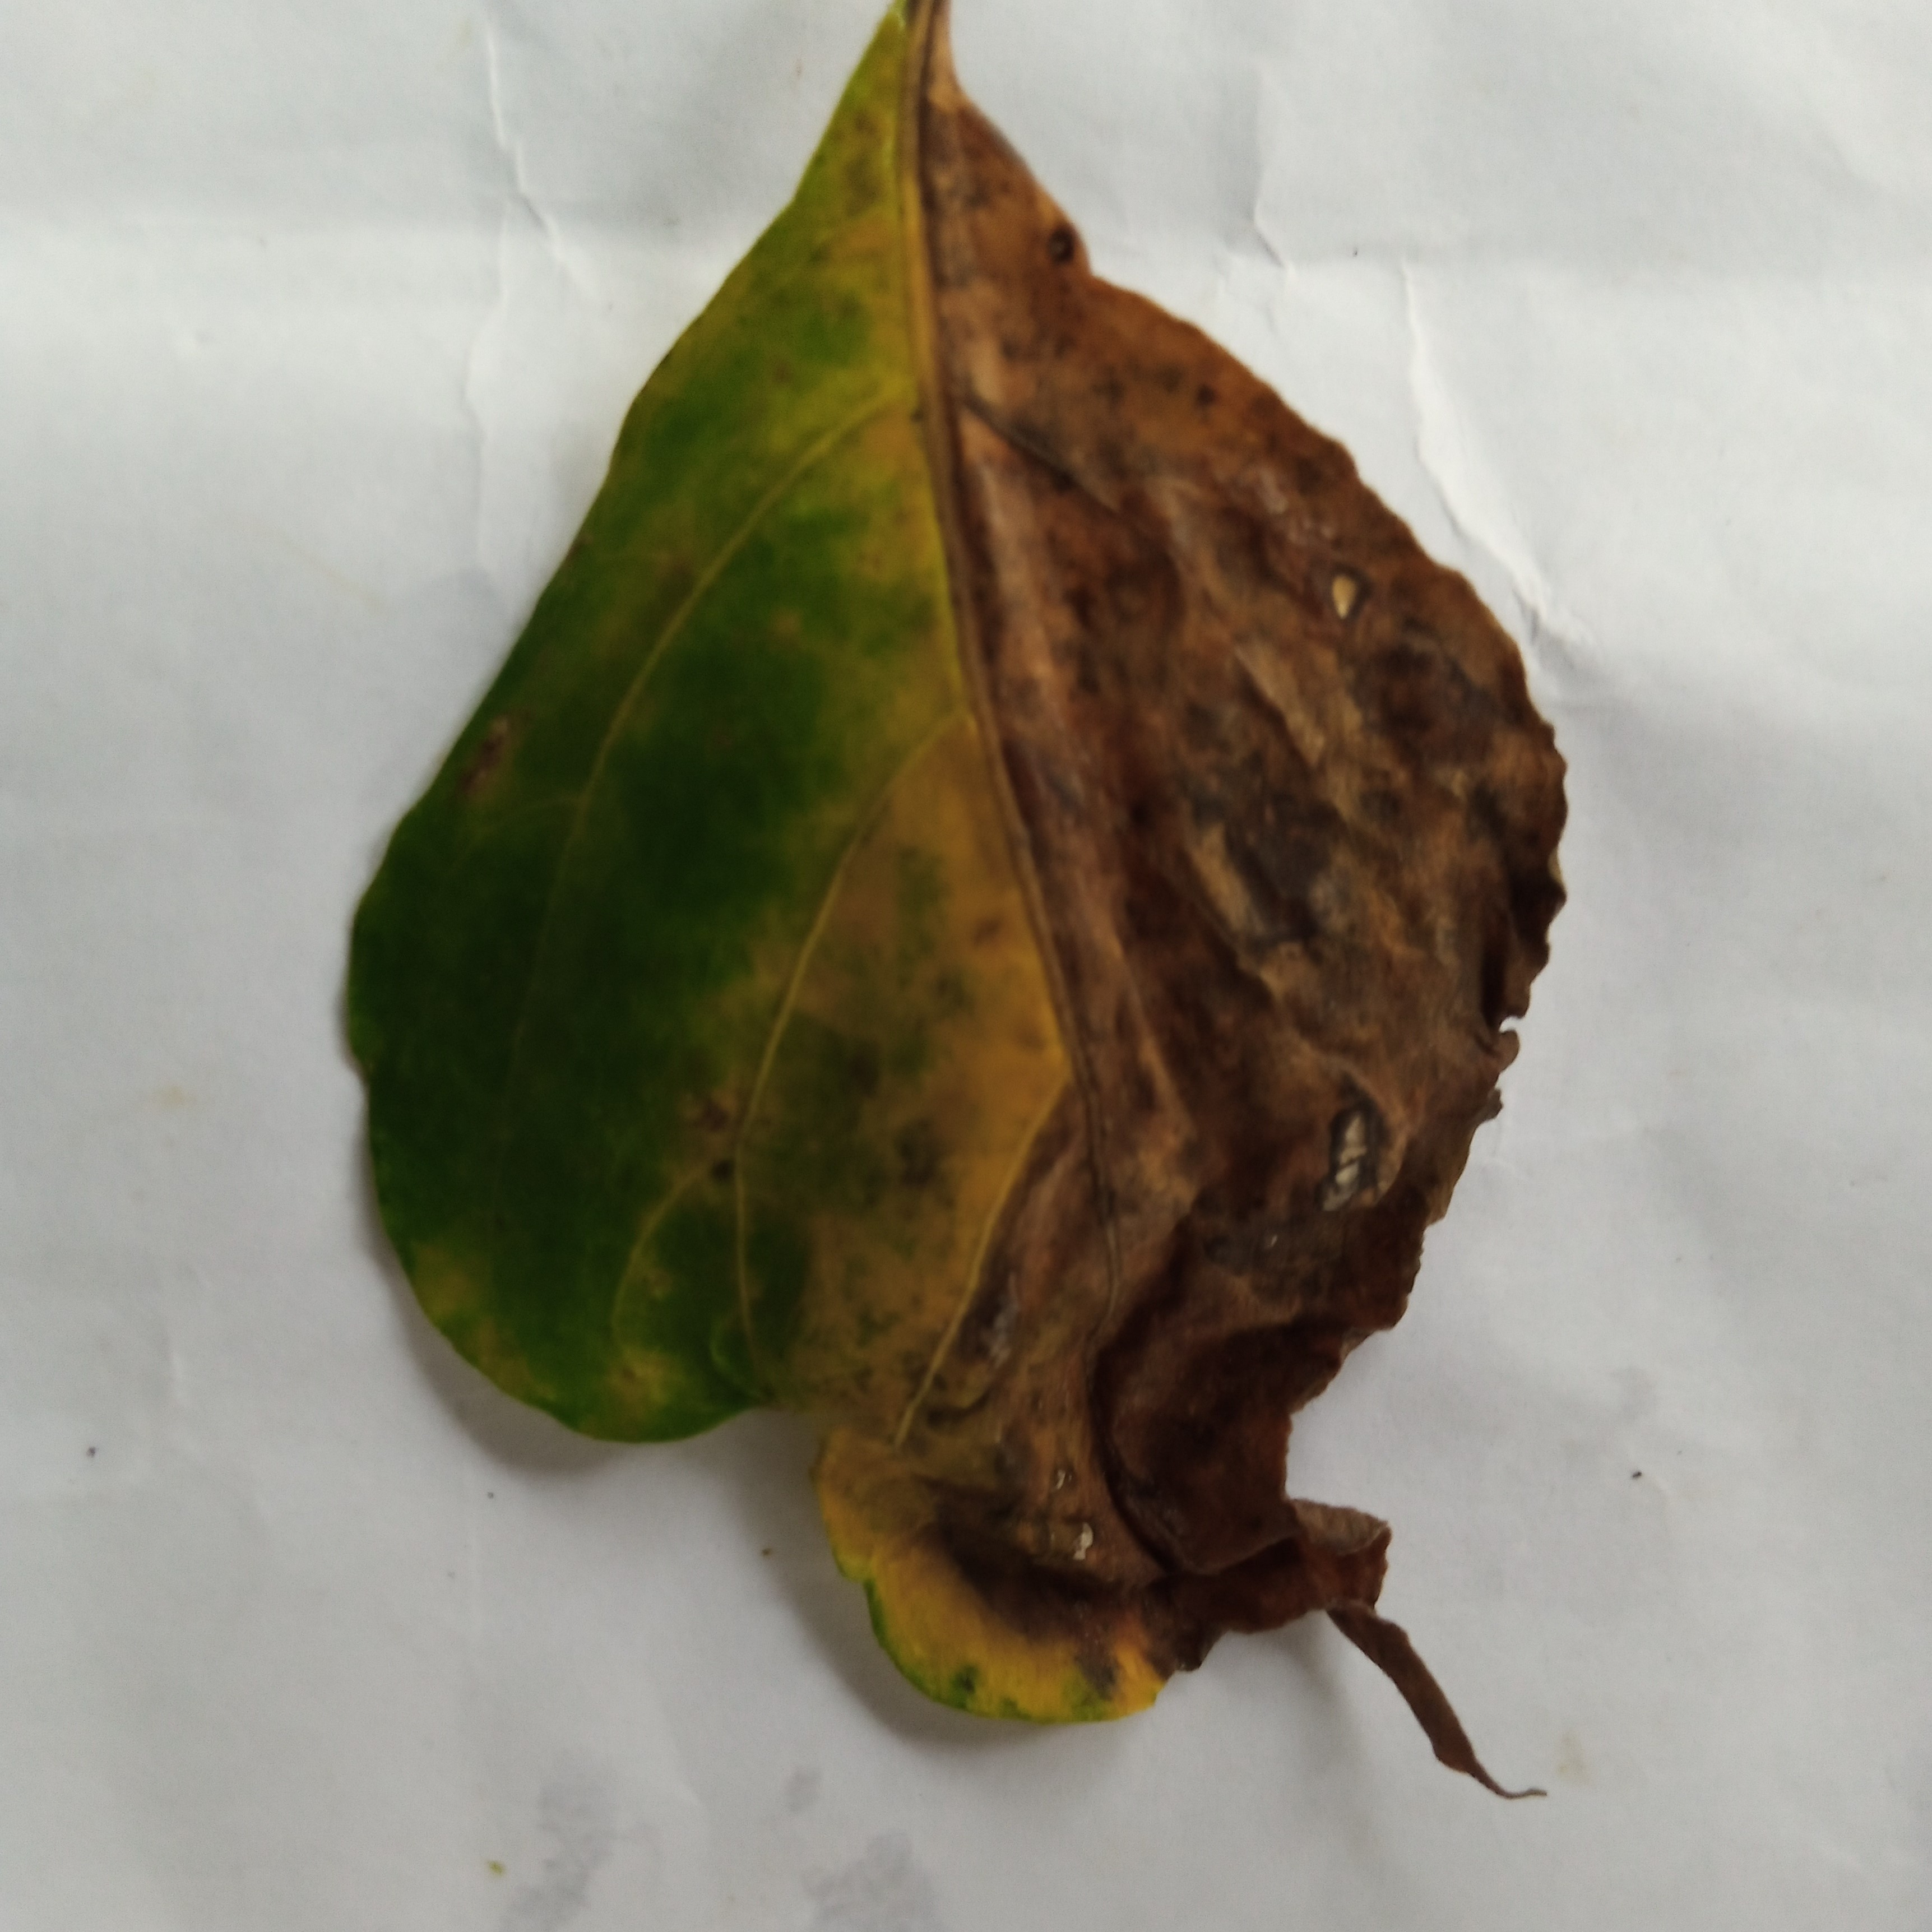Leaf: (225, 64, 1652, 1932)
